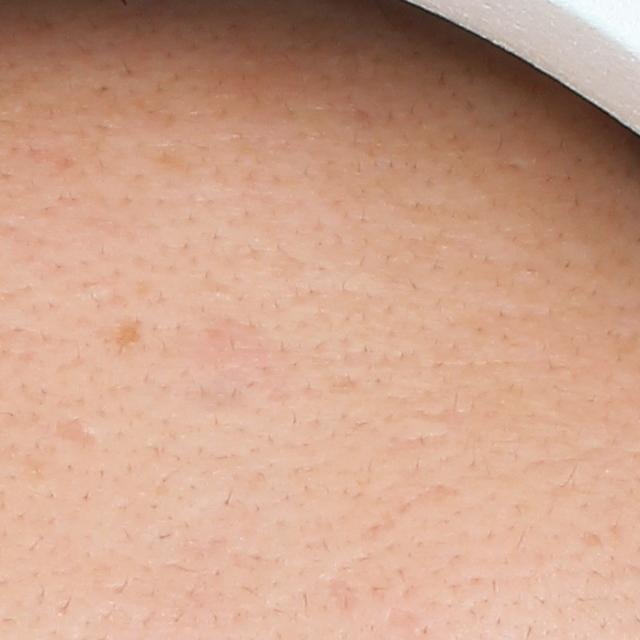atrophic_scar: (97, 315, 146, 352), (49, 417, 97, 450), (331, 576, 361, 615)
